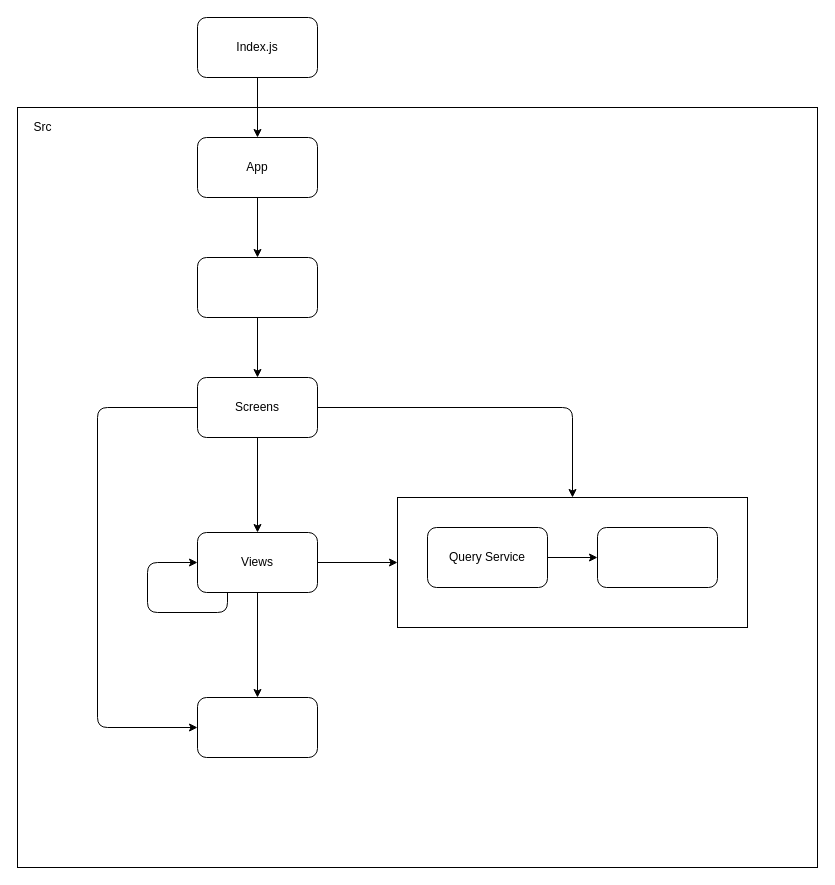
The diagram is 835 pixels wide and 885 high, and some of its shapes have lost their labels. Each missing label, with the centre of its shape:
API Service: point 657,557
Components: point 257,727
Navigation: point 257,287
